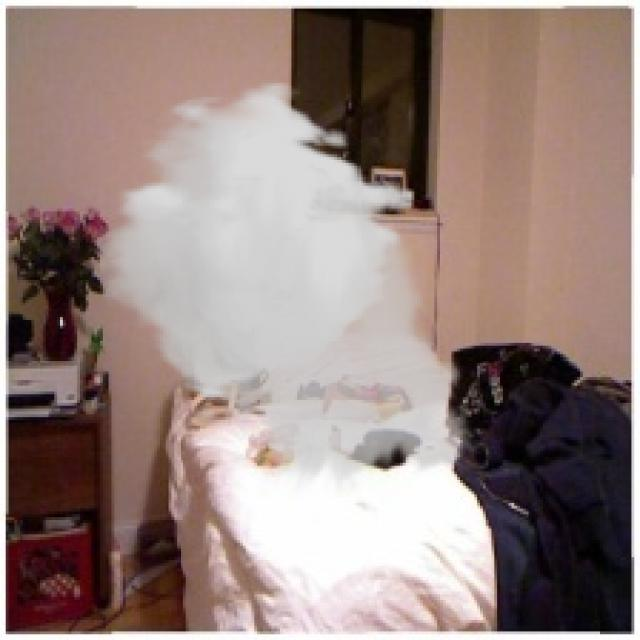smoke: (100, 80, 486, 497)
